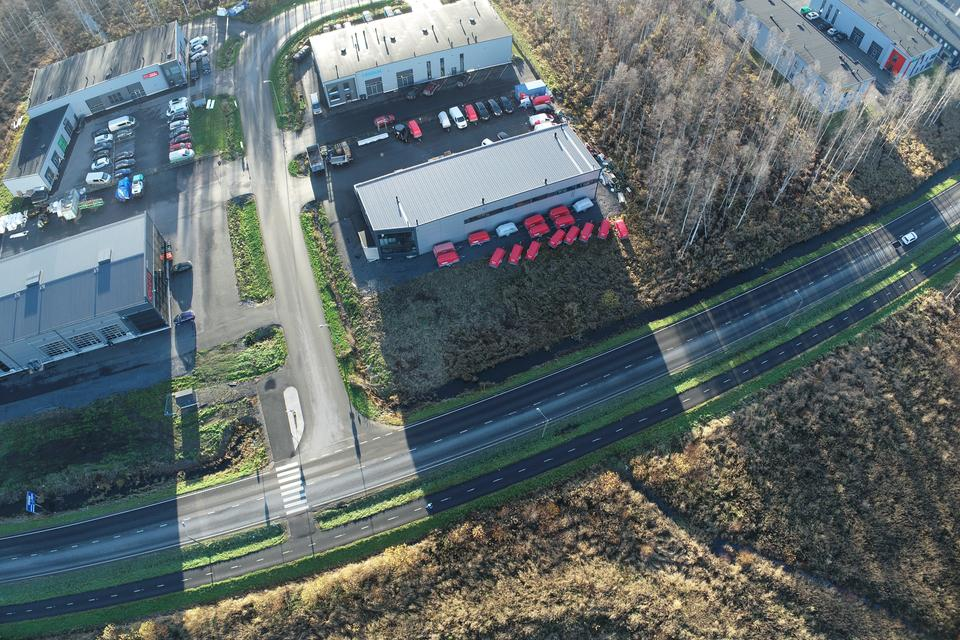intersection: (236, 408, 438, 603)
